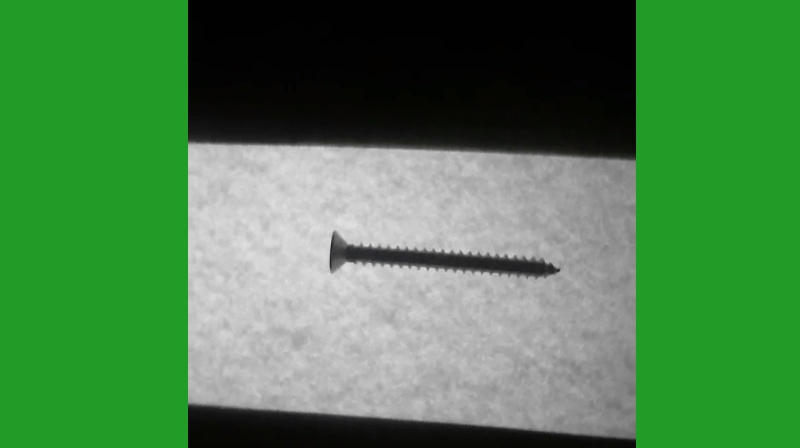S002: (324, 225, 564, 281)
